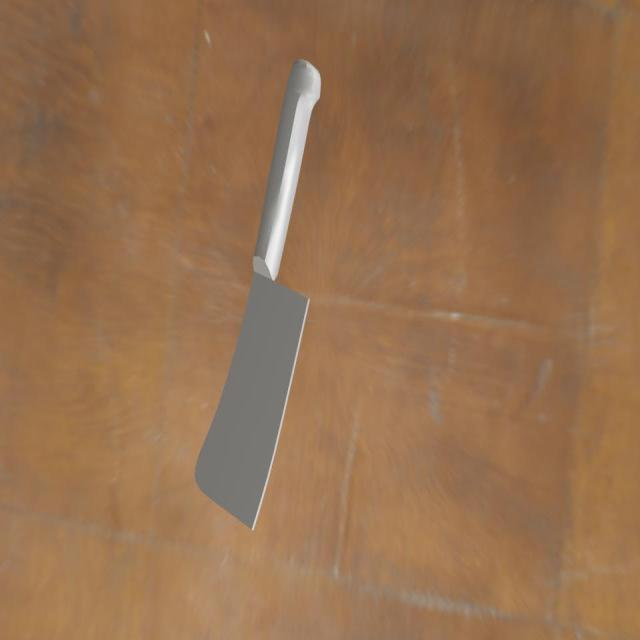knife: (250, 48, 321, 280)
